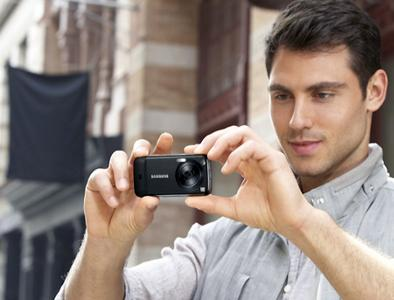person: (52, 3, 394, 299)
